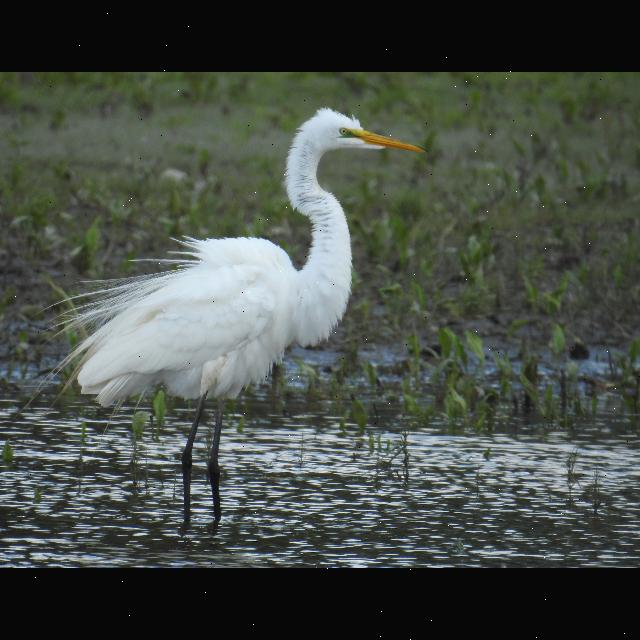egret: (54, 106, 436, 516)
